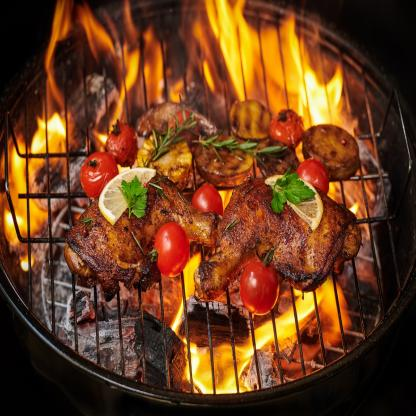fire: (3, 0, 373, 398)
